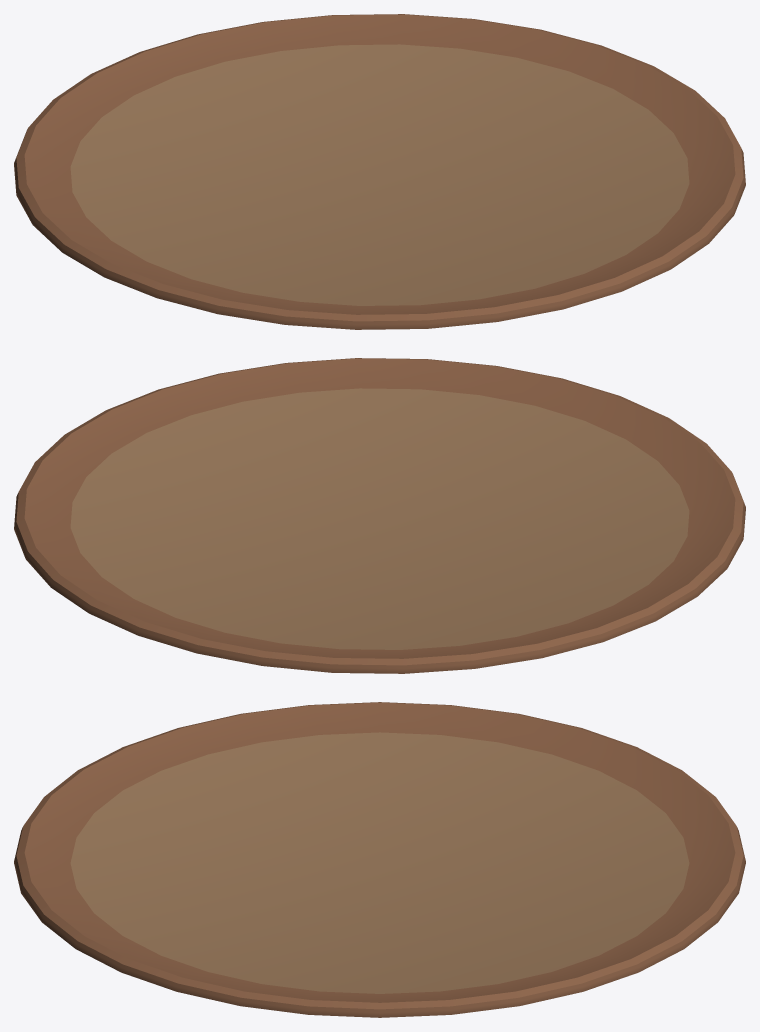
The model's file is Cooked dough.fbx.
3 views of the same model, one above another, from view 1: azimuth 30°, elevation 25°; view 2: azimuth 150°, elevation 25°; view 3: azimuth 270°, elevation 25° (orthographic).
Parts seen in each view (by area): view 1: Circle.006; view 2: Circle.006; view 3: Circle.006.
Boxes of the visible parts, x1,y1,x2,y2 form: Circle.006: [14, 14, 745, 329]; Circle.006: [14, 358, 745, 673]; Circle.006: [14, 702, 745, 1017].
Bounding box in the file's own units: 16.36 × 0.2752 × 16.36.
